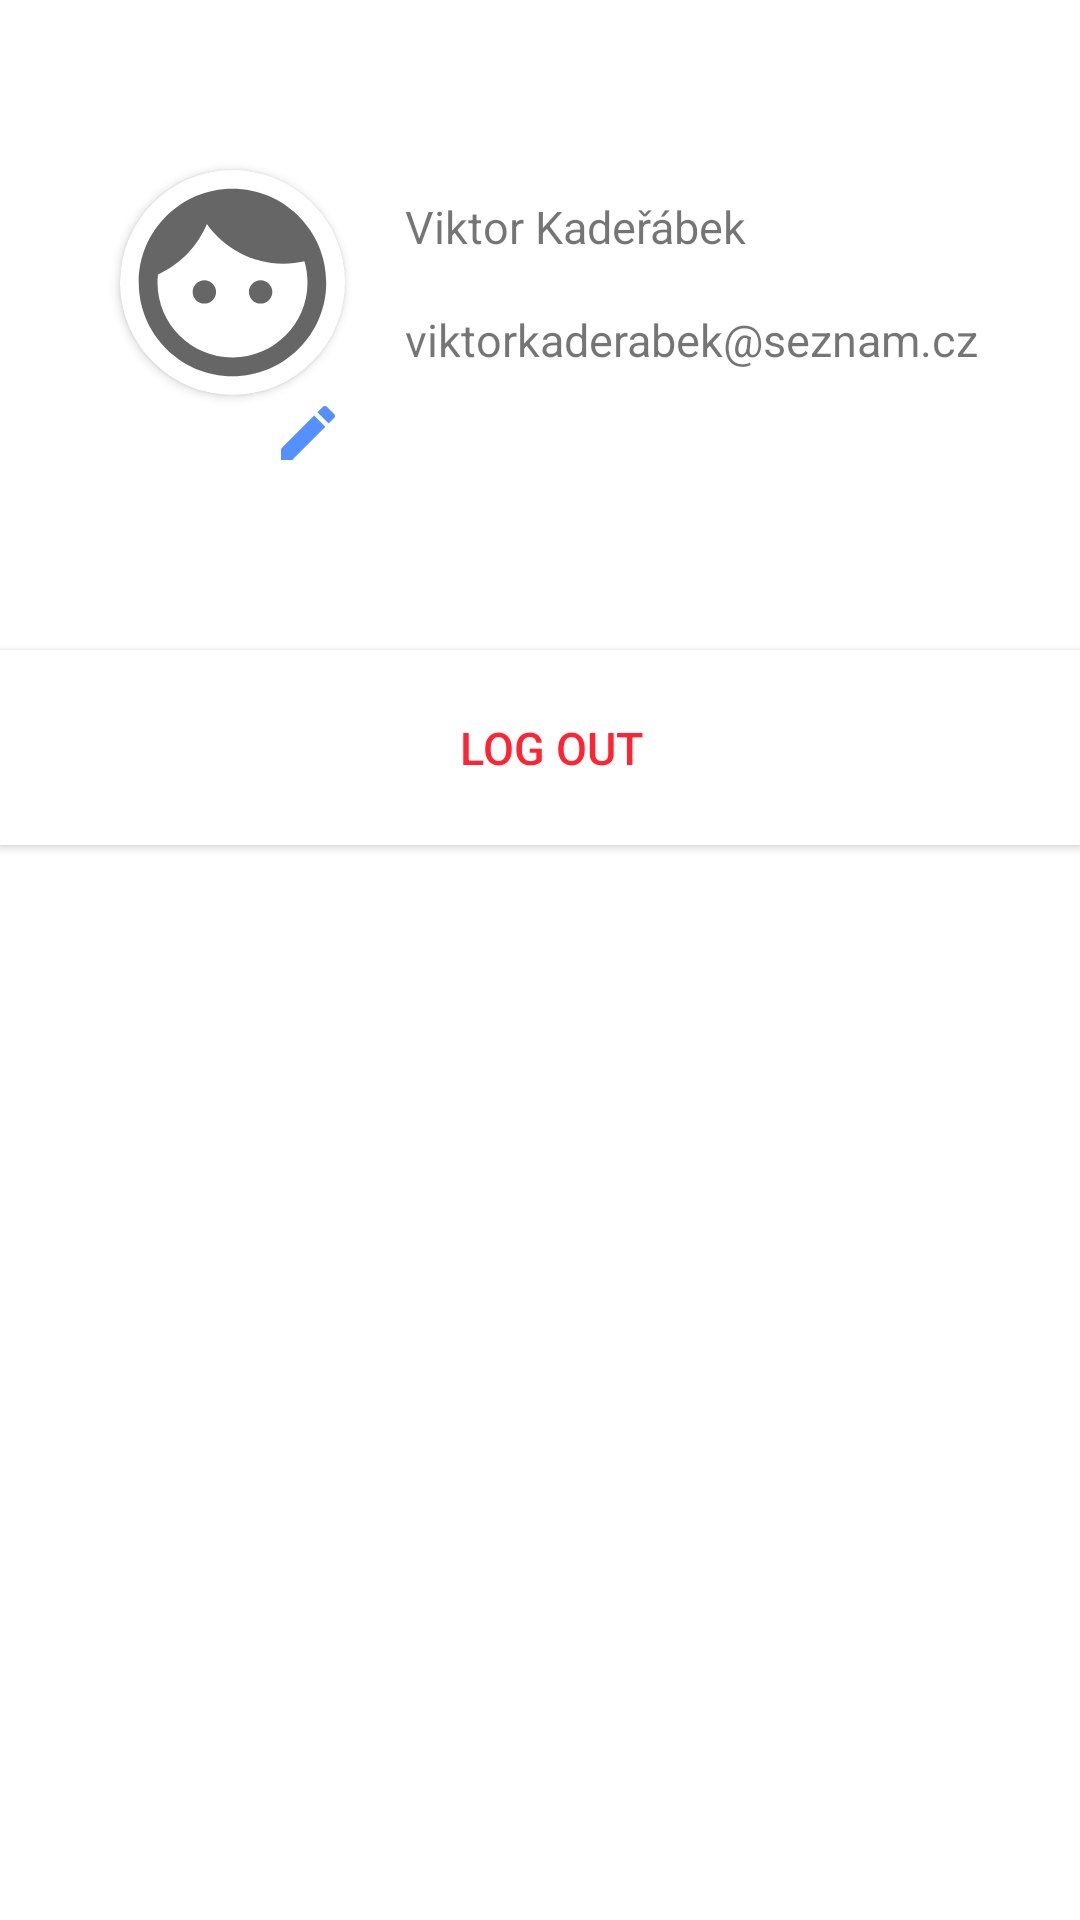

Named icons in this screenshot (1080x1920) and their centers, (x=x, y=y):
edit: (x=308, y=433)
face: (x=225, y=289)
